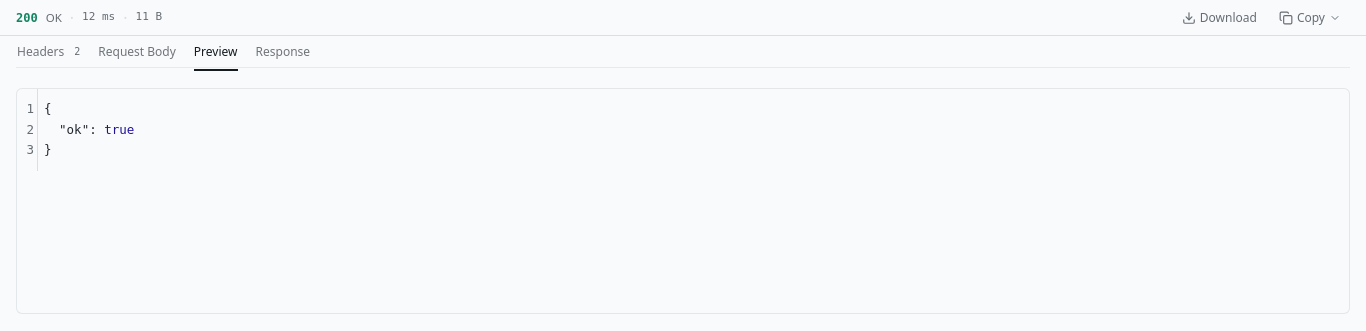
Test case: ResponsePanel — tabs › reports an empty request body rather than rendering nothing
Click the tab "Request Body" at [137, 52], box [97,36,177,66]
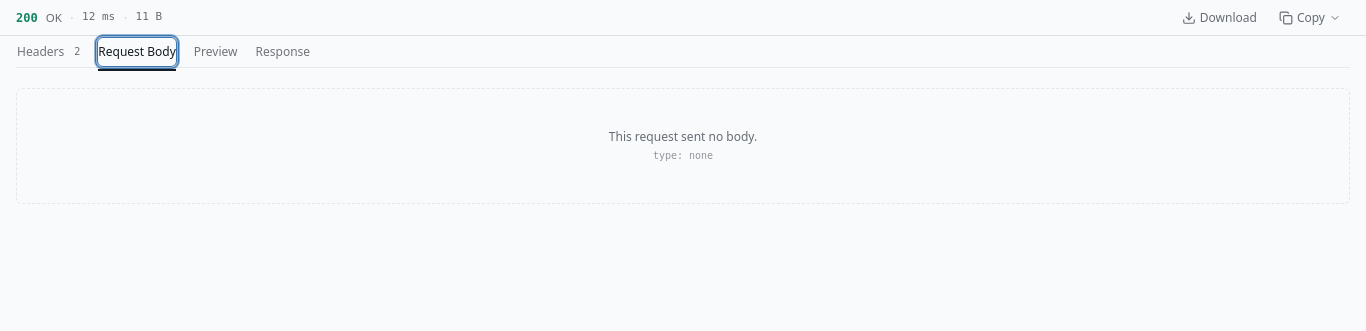
Expected: the text "This request sent no body." is shown, [609,129,757,145]
